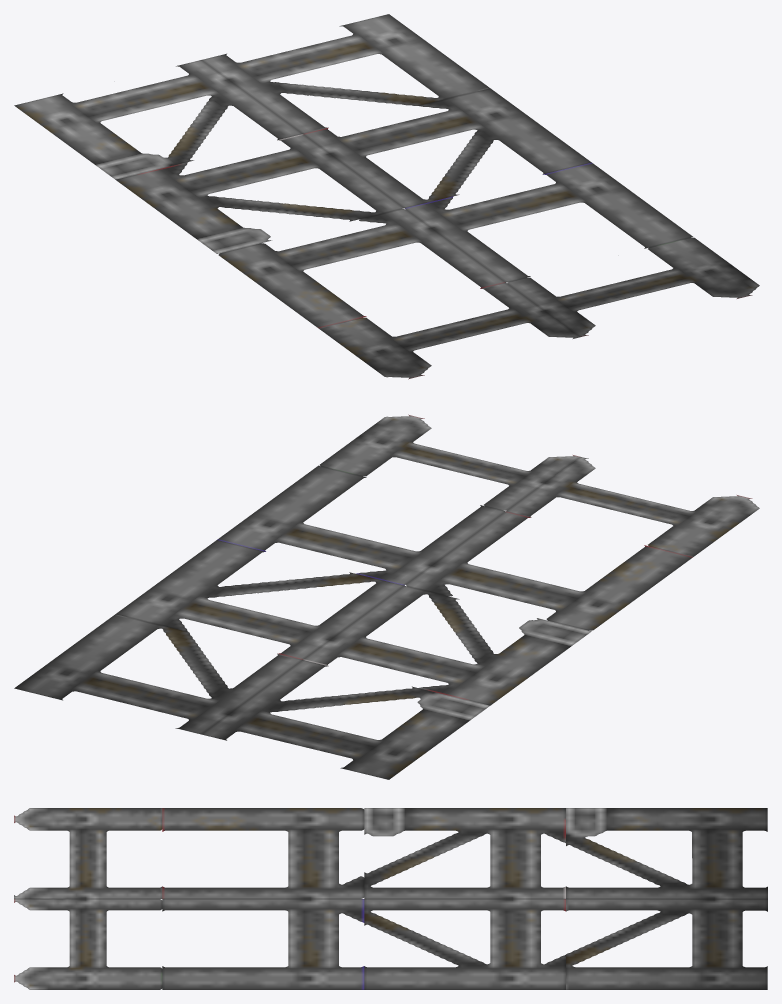
3 views of the same model, one above another, from view 1: azimuth 30°, elevation 25°; view 2: azimuth 150°, elevation 25°; view 3: azimuth 270°, elevation 25° (orthographic).
Parts seen in each view (by area): view 1: T1L8M008_7; view 2: T1L8M008_7; view 3: T1L8M008_7.
Part boxes in pixels (left/top/right/bottom): T1L8M008_7: left=14, top=14, right=759, bottom=379; T1L8M008_7: left=14, top=414, right=759, bottom=779; T1L8M008_7: left=14, top=808, right=767, bottom=989.
Size of the model in its own units: 1.6 by 0.000977 by 2.8.
1 material, 1 textured.
